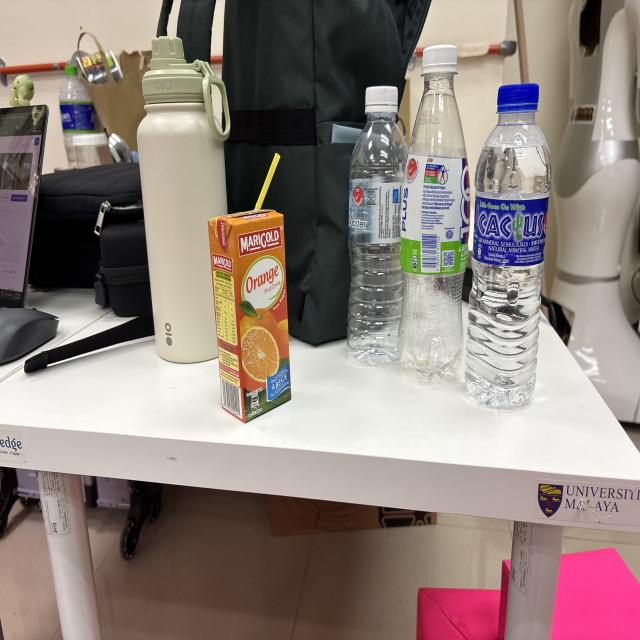drink_carton: (203, 149, 298, 428)
plastic_bottle: (458, 73, 554, 417), (394, 40, 474, 388), (342, 76, 414, 374)
